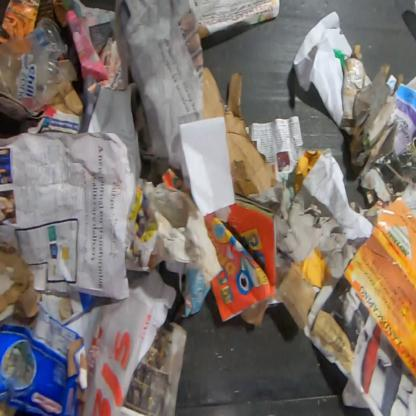cardboard: (0, 292, 93, 416), (203, 68, 275, 197), (339, 43, 403, 178), (277, 263, 317, 331)
rigid_plastic: (0, 19, 78, 117)
